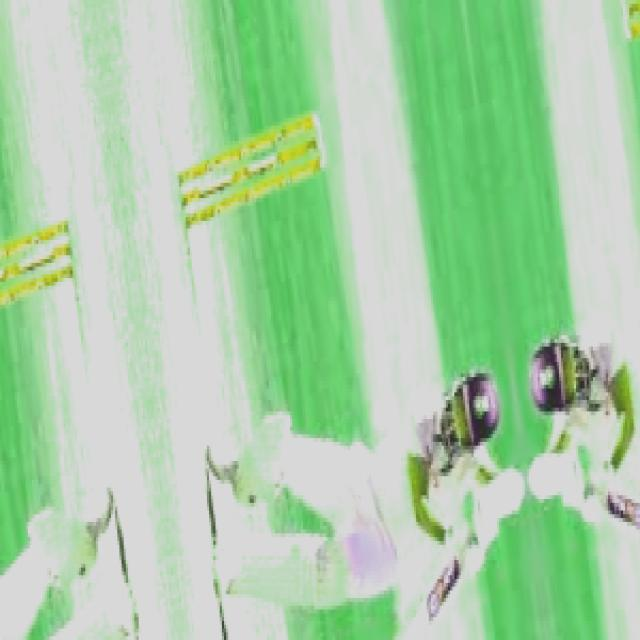toe: (410, 594, 433, 640)
